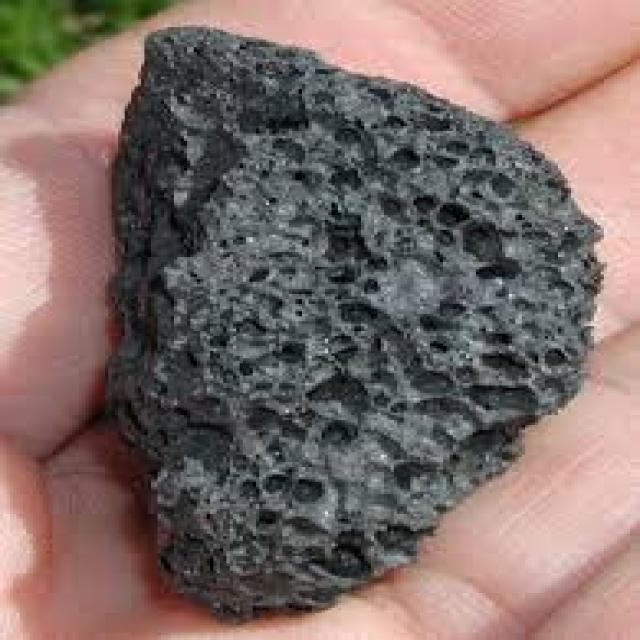Igneous: (95, 15, 598, 613)
